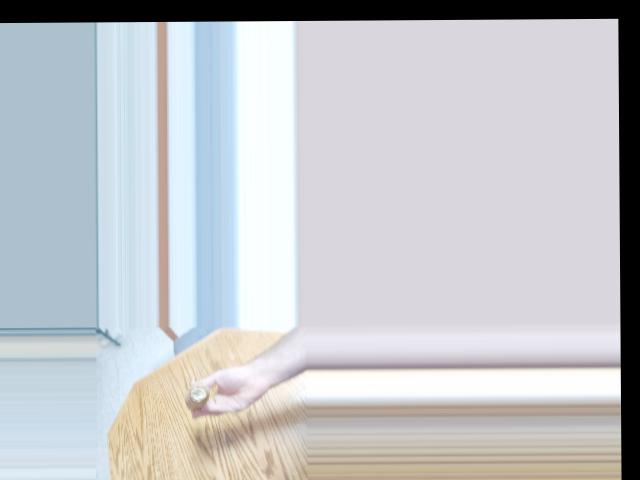sweet_potato: (180, 381, 208, 404)
